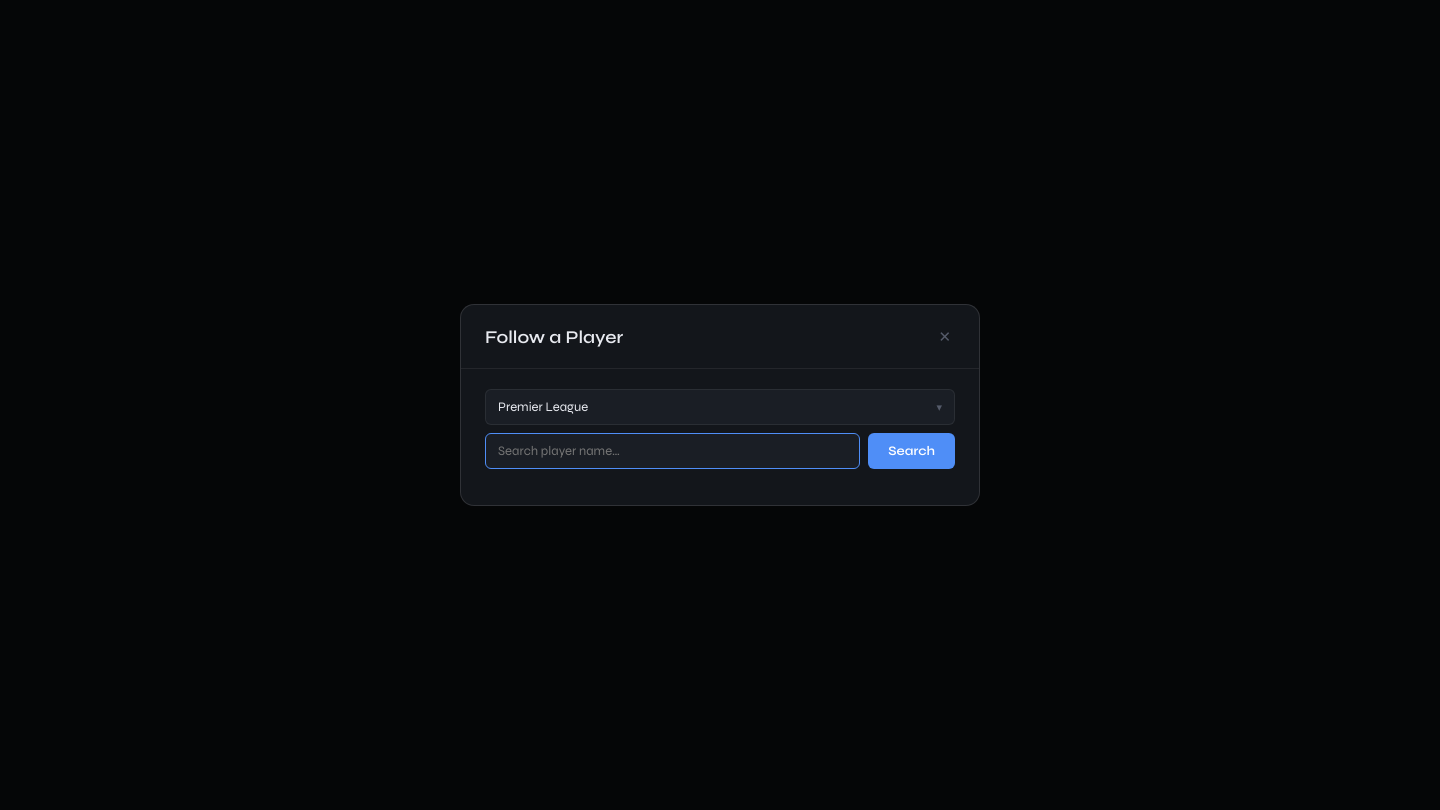
LeaguePicker › closes the list after selecting a league
What coordinates should you click on to do the following:
click the text "Premier League"
I would click on:
 (543, 407)
Its box is [498, 399, 588, 415].
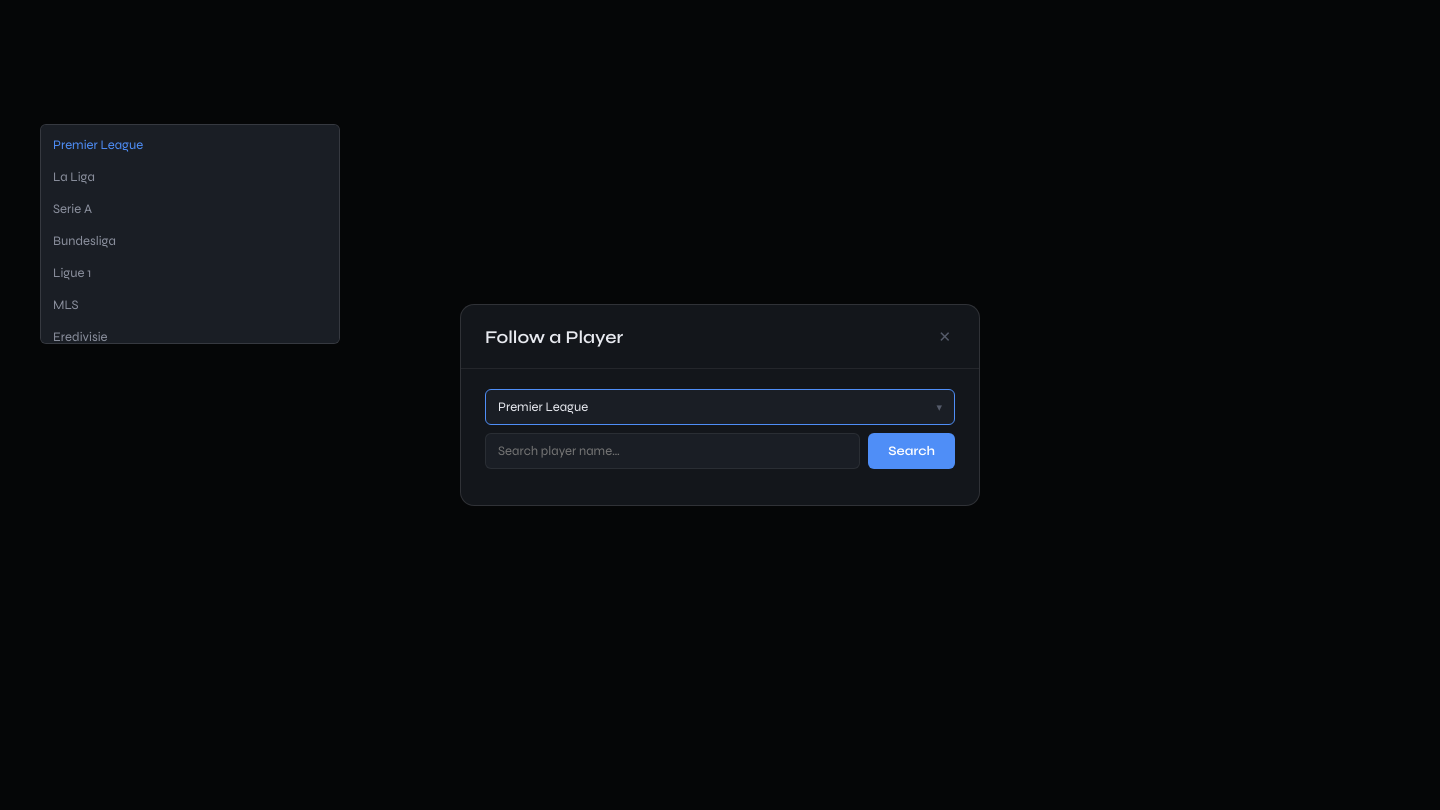
What coordinates should you click on to do the following:
click the list item "Bundesliga"
I would click on:
 (84, 241)
Its box is [53, 233, 116, 249].
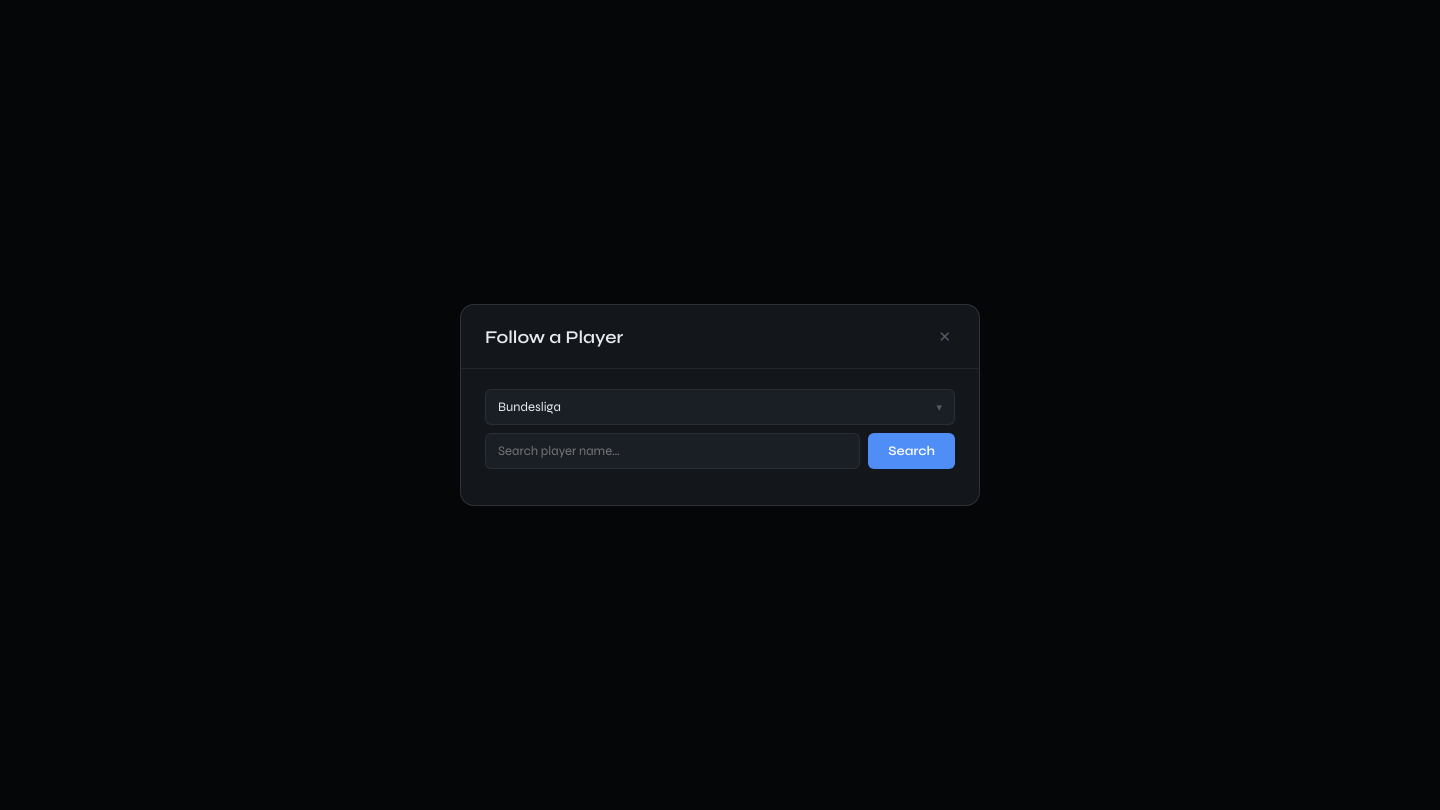
Expected: the list item "La Liga" is gone
